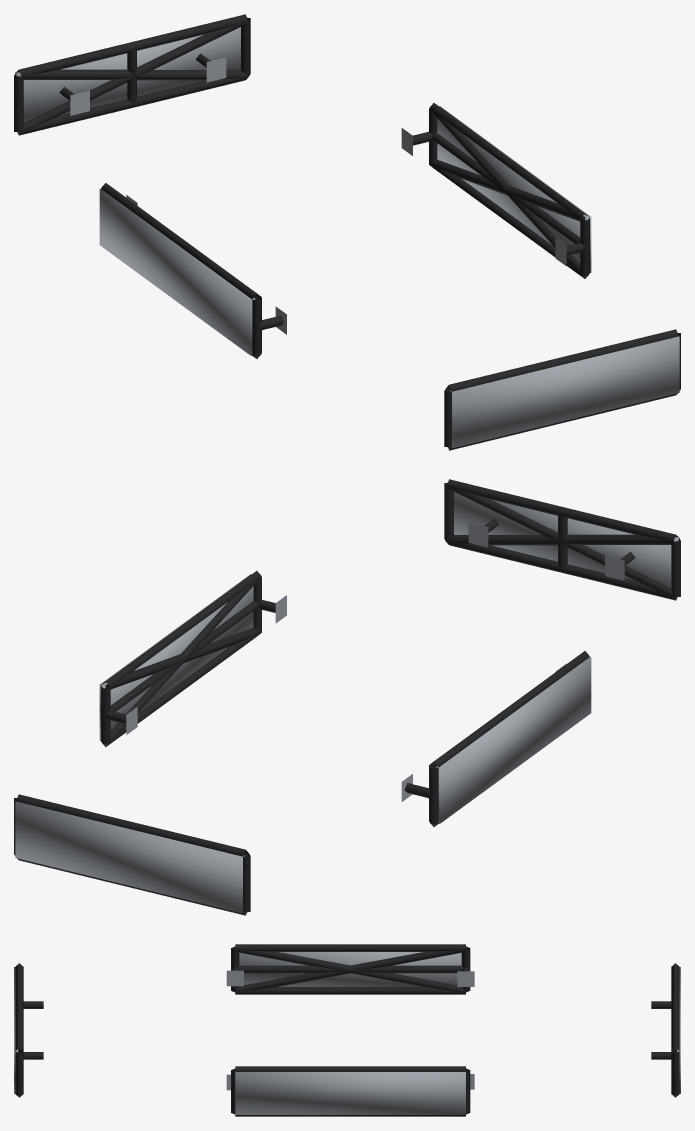
The model's file is hayase_mimo_protecao.glb.
3 views of the same model, one above another, from view 1: azimuth 30°, elevation 25°; view 2: azimuth 150°, elevation 25°; view 3: azimuth 270°, elevation 25° (orthographic). The views are drawn at different scales.
Parts seen in each view (by area): view 1: Protection_front_Level3_Details, Protection_left_Level3_Details, Protection_rear_Level1_Details, Protection_rear_Level3_Details, Protection_right_Level1_Details, Protection_rear_Level2_Details, Protection_right_Level2_Details, Protection_right_Level3_Details, Protection_front_Level1_Details, Protection_left_Level1_Details; view 2: Protection_rear_Level3_Details, Protection_left_Level3_Details, Protection_front_Level1_Details, Protection_front_Level3_Details, Protection_right_Level1_Details, Protection_front_Level2_Details, Protection_right_Level2_Details, Protection_right_Level3_Details, Protection_rear_Level1_Details, Protection_left_Level1_Details; view 3: Protection_right_Level3_Details, Protection_left_Level2_Details, Protection_left_Level1_Details, Protection_left_Level3_Details, Protection_right_Level1_Details, Protection_rear_Level1_Details, Protection_front_Level1_Details.
Boxes of the visible parts, box(x1,y1,x2,y2) form: Protection_front_Level3_Details: box(450, 336, 679, 447); Protection_left_Level3_Details: box(99, 189, 255, 355); Protection_rear_Level1_Details: box(14, 14, 250, 135); Protection_rear_Level3_Details: box(15, 27, 240, 122); Protection_right_Level1_Details: box(401, 103, 589, 278); Protection_rear_Level2_Details: box(16, 21, 247, 134); Protection_right_Level2_Details: box(429, 109, 588, 278); Protection_right_Level3_Details: box(437, 106, 591, 272); Protection_front_Level1_Details: box(444, 329, 680, 450); Protection_left_Level1_Details: box(101, 183, 286, 358); Protection_rear_Level3_Details: box(15, 801, 244, 912); Protection_left_Level3_Details: box(435, 657, 591, 823); Protection_front_Level1_Details: box(444, 479, 680, 600); Protection_front_Level3_Details: box(454, 492, 679, 587); Protection_right_Level1_Details: box(101, 571, 286, 746); Protection_front_Level2_Details: box(447, 486, 678, 599); Protection_right_Level2_Details: box(101, 577, 261, 746); Protection_right_Level3_Details: box(99, 574, 253, 740); Protection_rear_Level1_Details: box(14, 794, 250, 915); Protection_left_Level1_Details: box(401, 651, 589, 826); Protection_right_Level3_Details: box(235, 1072, 465, 1114); Protection_left_Level2_Details: box(234, 947, 466, 992); Protection_left_Level1_Details: box(226, 944, 474, 994); Protection_left_Level3_Details: box(239, 952, 461, 986); Protection_right_Level1_Details: box(226, 1066, 474, 1116); Protection_rear_Level1_Details: box(651, 963, 679, 1097); Protection_front_Level1_Details: box(15, 963, 43, 1097).
Bounding box in the file's own units: 1.91 × 0.354 × 4.25.
Materials: 1 (1 with a texture image).
